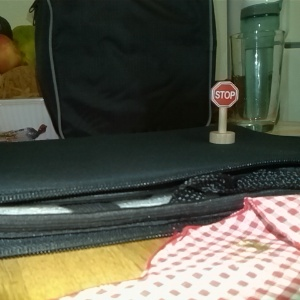stop sign: (209, 79, 239, 146)
